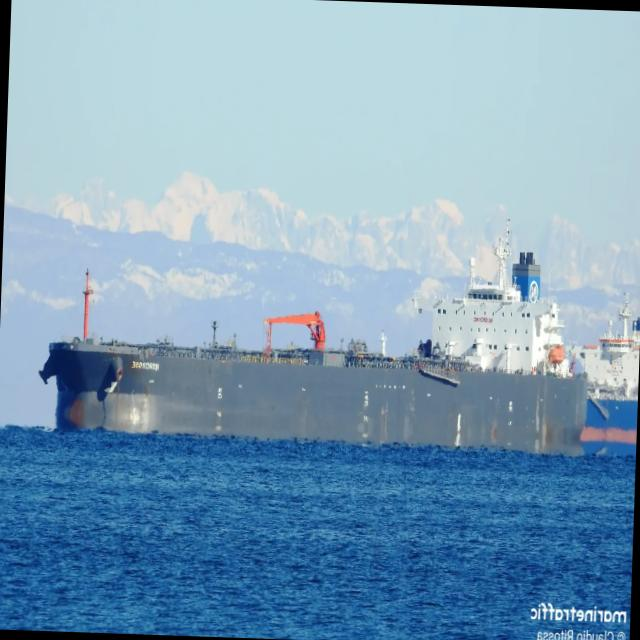Tanker: (39, 220, 586, 453)
